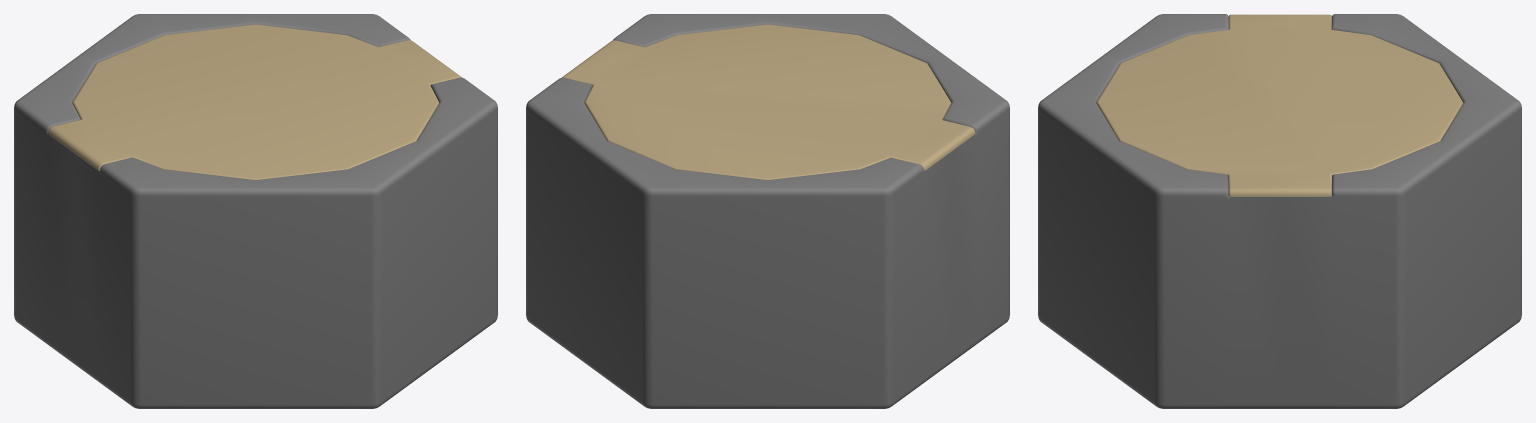
File: Room1.fbx
3 renders of one model, left to right at view 1: azimuth 30°, elevation 25°; view 2: azimuth 150°, elevation 25°; view 3: azimuth 270°, elevation 25°, orthographic.
Parts seen in each view (by area): view 1: Cylinder002; view 2: Cylinder002; view 3: Cylinder002.
Boxes of the visible parts, x1=… form: Cylinder002: x1=14, y1=14, x2=497, y2=408; Cylinder002: x1=526, y1=14, x2=1009, y2=408; Cylinder002: x1=1038, y1=14, x2=1521, y2=408.
Bounding box in the file's own units: 173 × 100 × 199.
